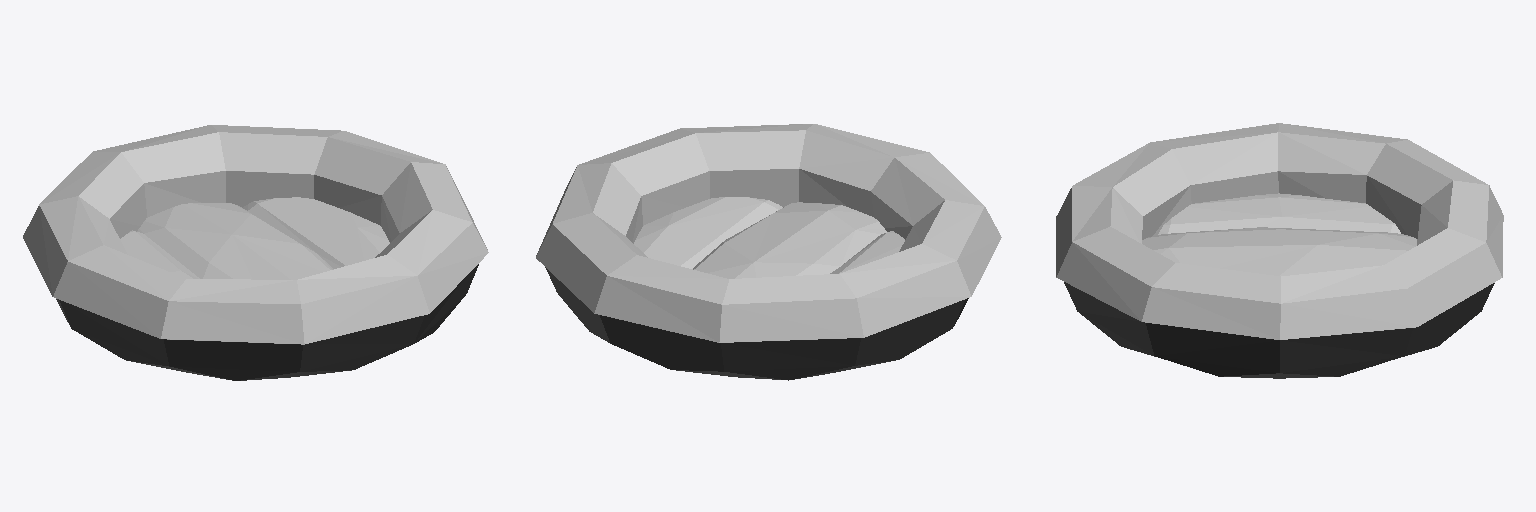
File: CatBed.obj
3 renders of one model, left to right at view 1: azimuth 30°, elevation 25°; view 2: azimuth 150°, elevation 25°; view 3: azimuth 270°, elevation 25°, orthographic.
Parts seen in each view (by area): view 1: CatBed_Torus; view 2: CatBed_Torus; view 3: CatBed_Torus.
Boxes of the visible parts, x1,y1,x2,y2 form: CatBed_Torus: [23, 125, 488, 380]; CatBed_Torus: [536, 124, 1001, 380]; CatBed_Torus: [1056, 123, 1503, 378].
Size of the model in its own units: 0.6902 by 0.18 by 0.657.